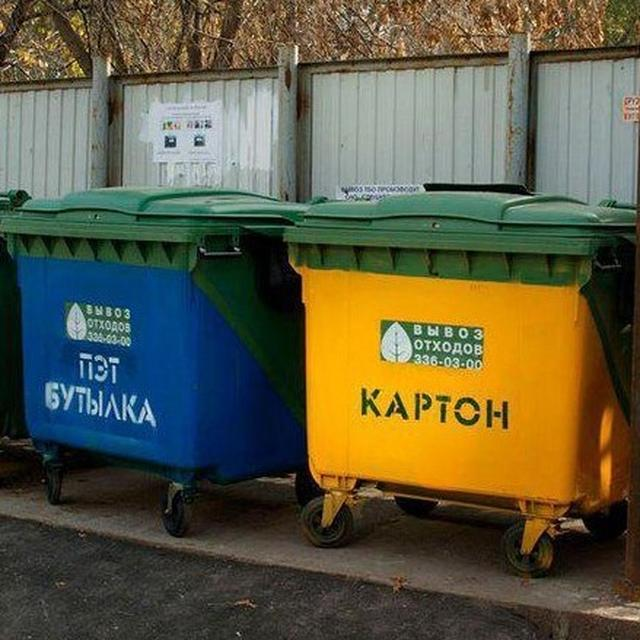Trash_Can_Closed: (285, 189, 640, 513), (0, 185, 304, 487)
